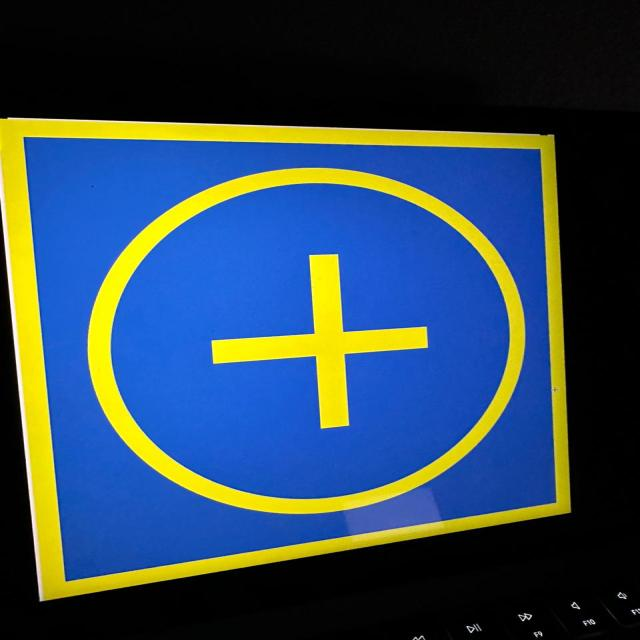Marker: (0, 97, 607, 600)
